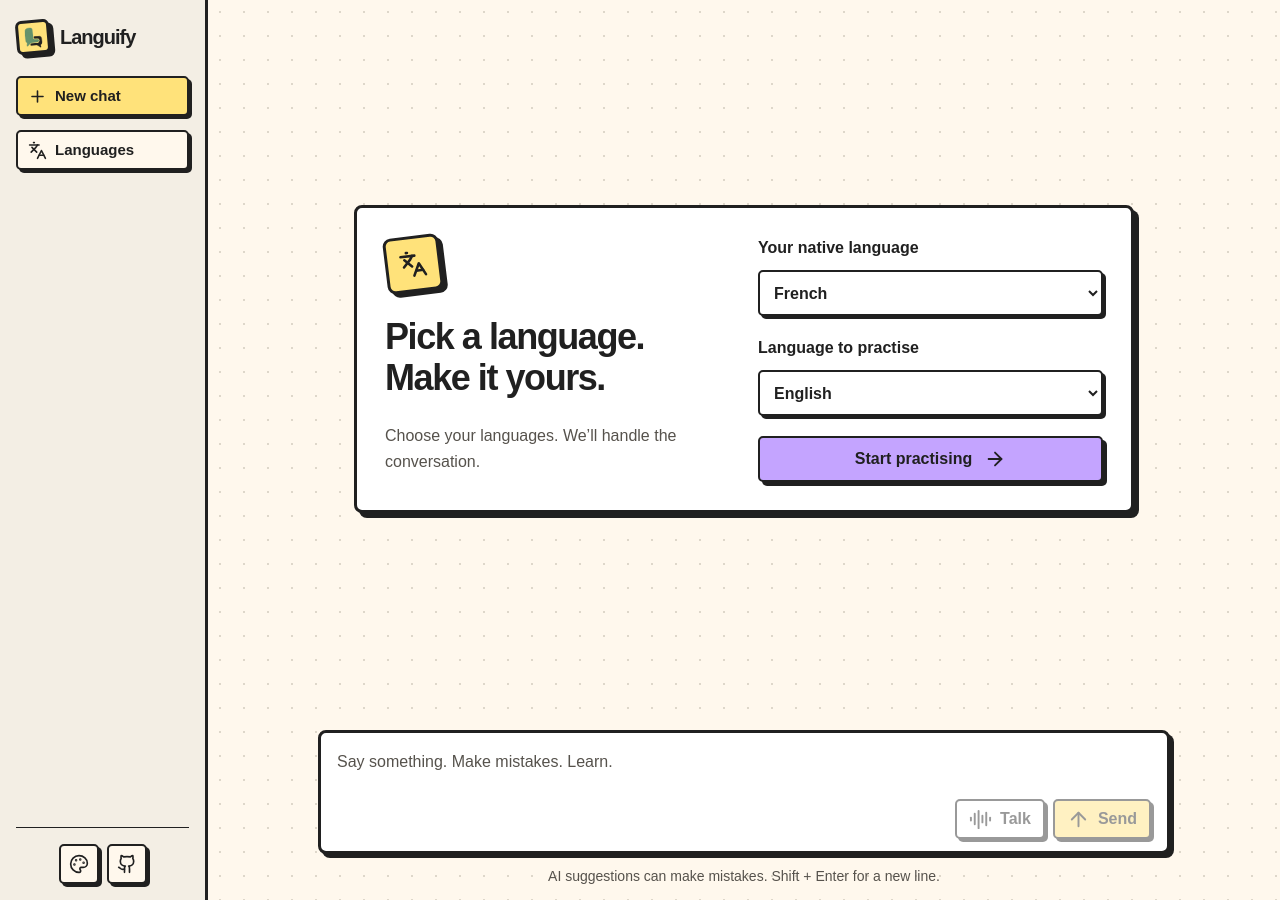
Test: same-language setup stays on the form
The image size is (1280, 900).
Select "French" in the dropdown labelled "Language to practise" at (930, 393), box [758, 370, 1103, 416]
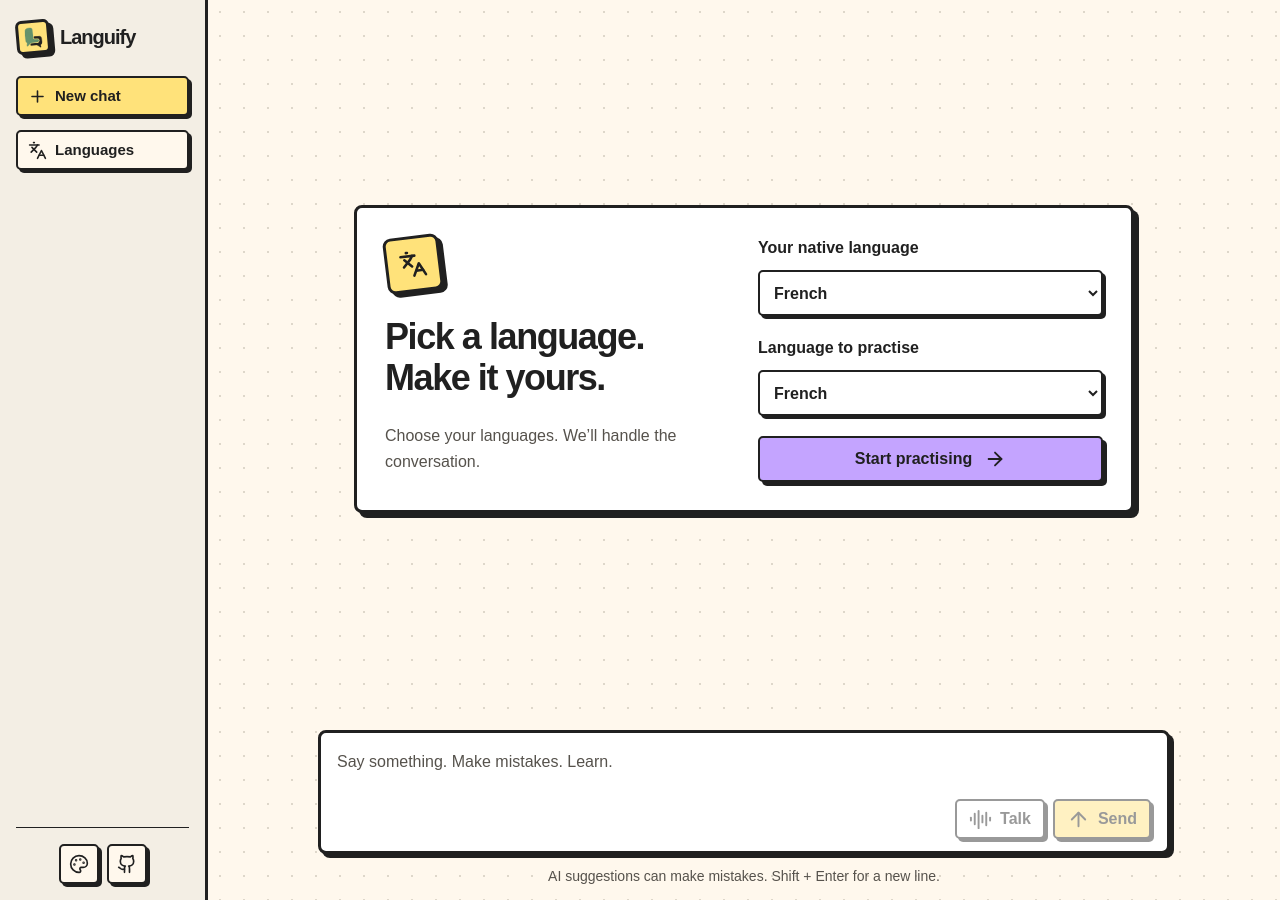
Click the button "Start practising" at (930, 459), box [758, 436, 1103, 482]
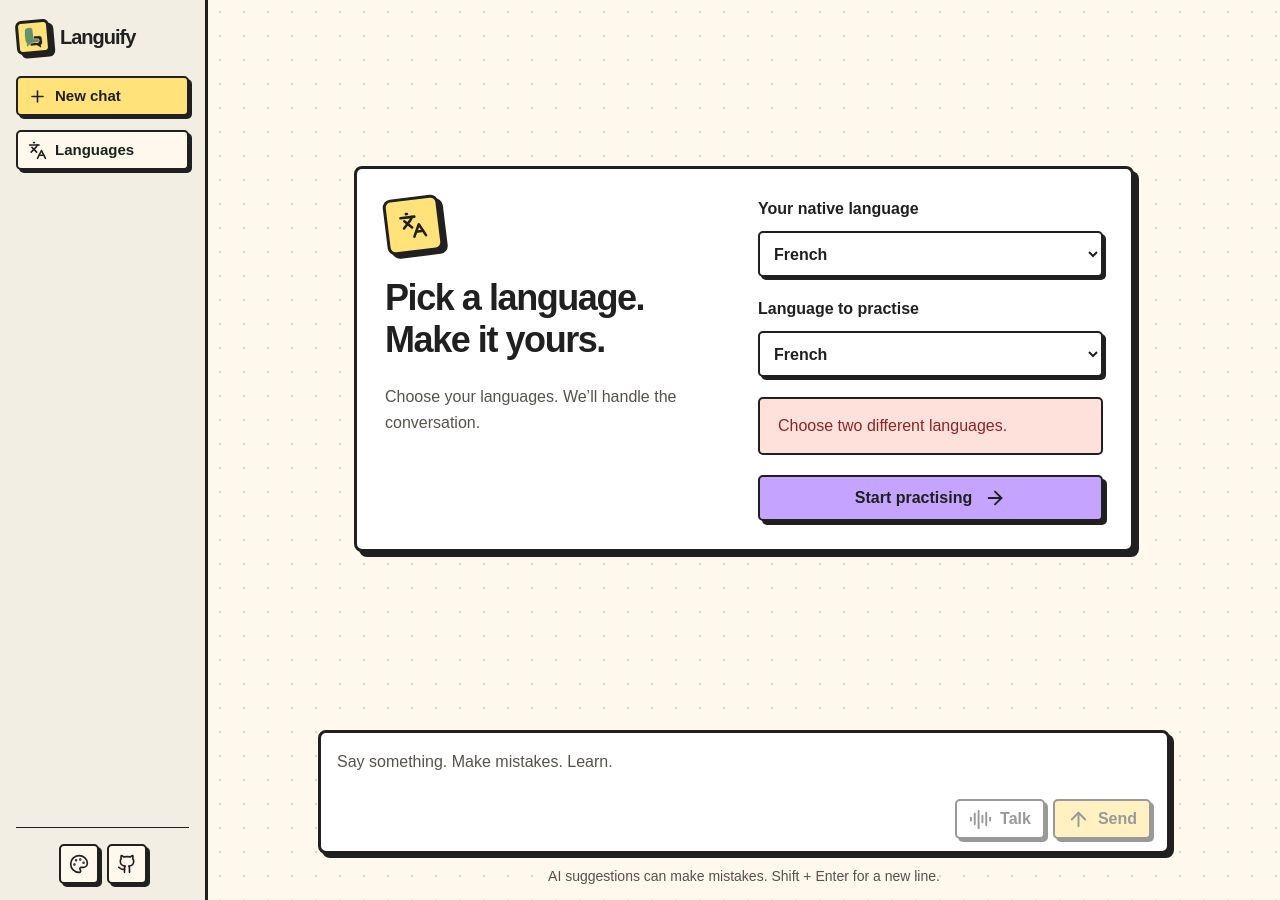
Check: the button "Send" is disabled, box [1053, 799, 1151, 839]
Check: the message reads "Choose two different languages.", box [778, 417, 1007, 434]
